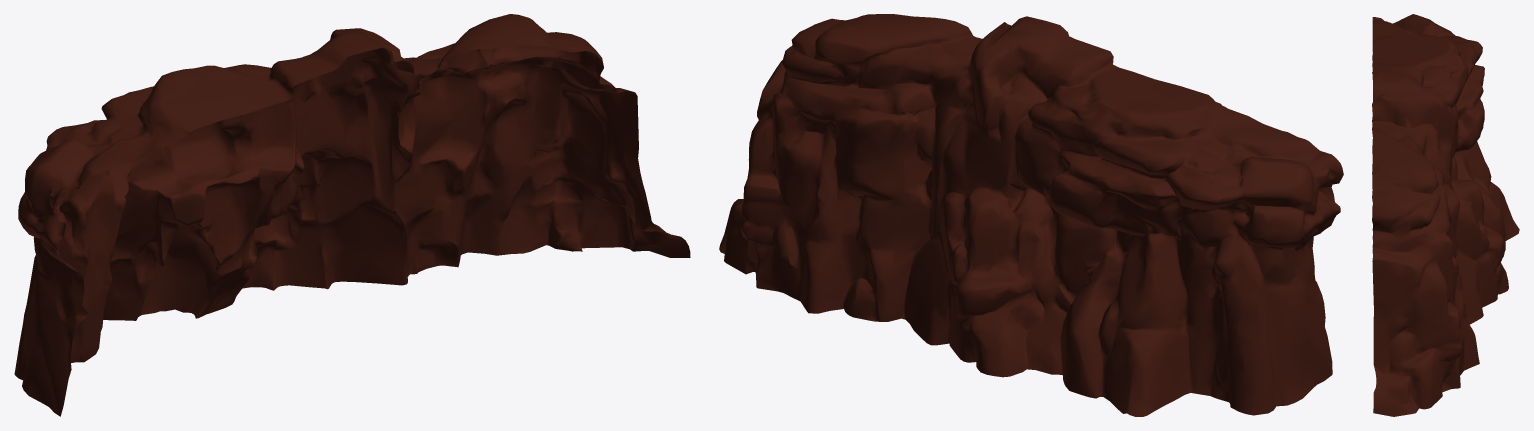
The model's file is Nature_CliffC.FBX.
3 renders of one model, left to right at view 1: azimuth 30°, elevation 25°; view 2: azimuth 150°, elevation 25°; view 3: azimuth 270°, elevation 25°, orthographic. The views are drawn at different scales.
Visible parts, largest first — view 1: Cliff_C; view 2: Cliff_C; view 3: Cliff_C.
Part boxes in pixels (x1=…): Cliff_C: x1=14, y1=14, x2=690, y2=416; Cliff_C: x1=719, y1=14, x2=1343, y2=416; Cliff_C: x1=1372, y1=14, x2=1519, y2=416.
Bounding box in the file's own units: 1812 × 802 × 482.
